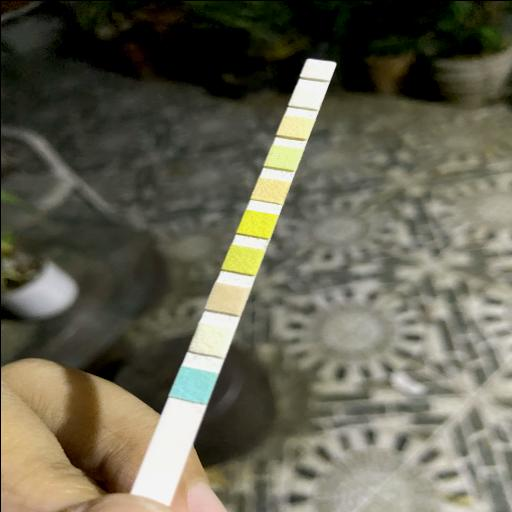Bilirubin: (196, 327, 226, 351)
Blood: (243, 214, 271, 233)
Glucose: (178, 370, 210, 396)
Ketone: (212, 286, 242, 308)
Leukocytes: (305, 61, 330, 77)
Nitrite: (293, 90, 320, 104)
Protein: (270, 148, 296, 166)
SpGravity: (228, 250, 258, 268)
Urobilinogen: (282, 118, 308, 134)
pH: (256, 180, 284, 198)
strip: (131, 58, 335, 497)
